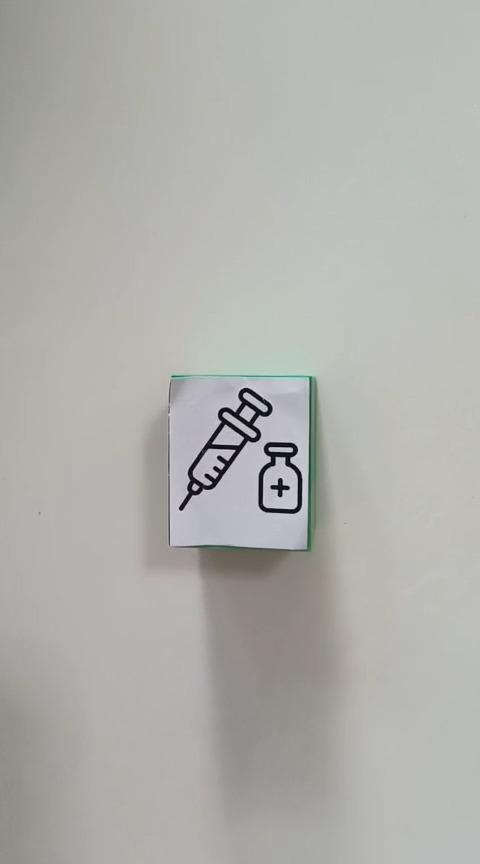antiseptic cream: (166, 373, 315, 551)
